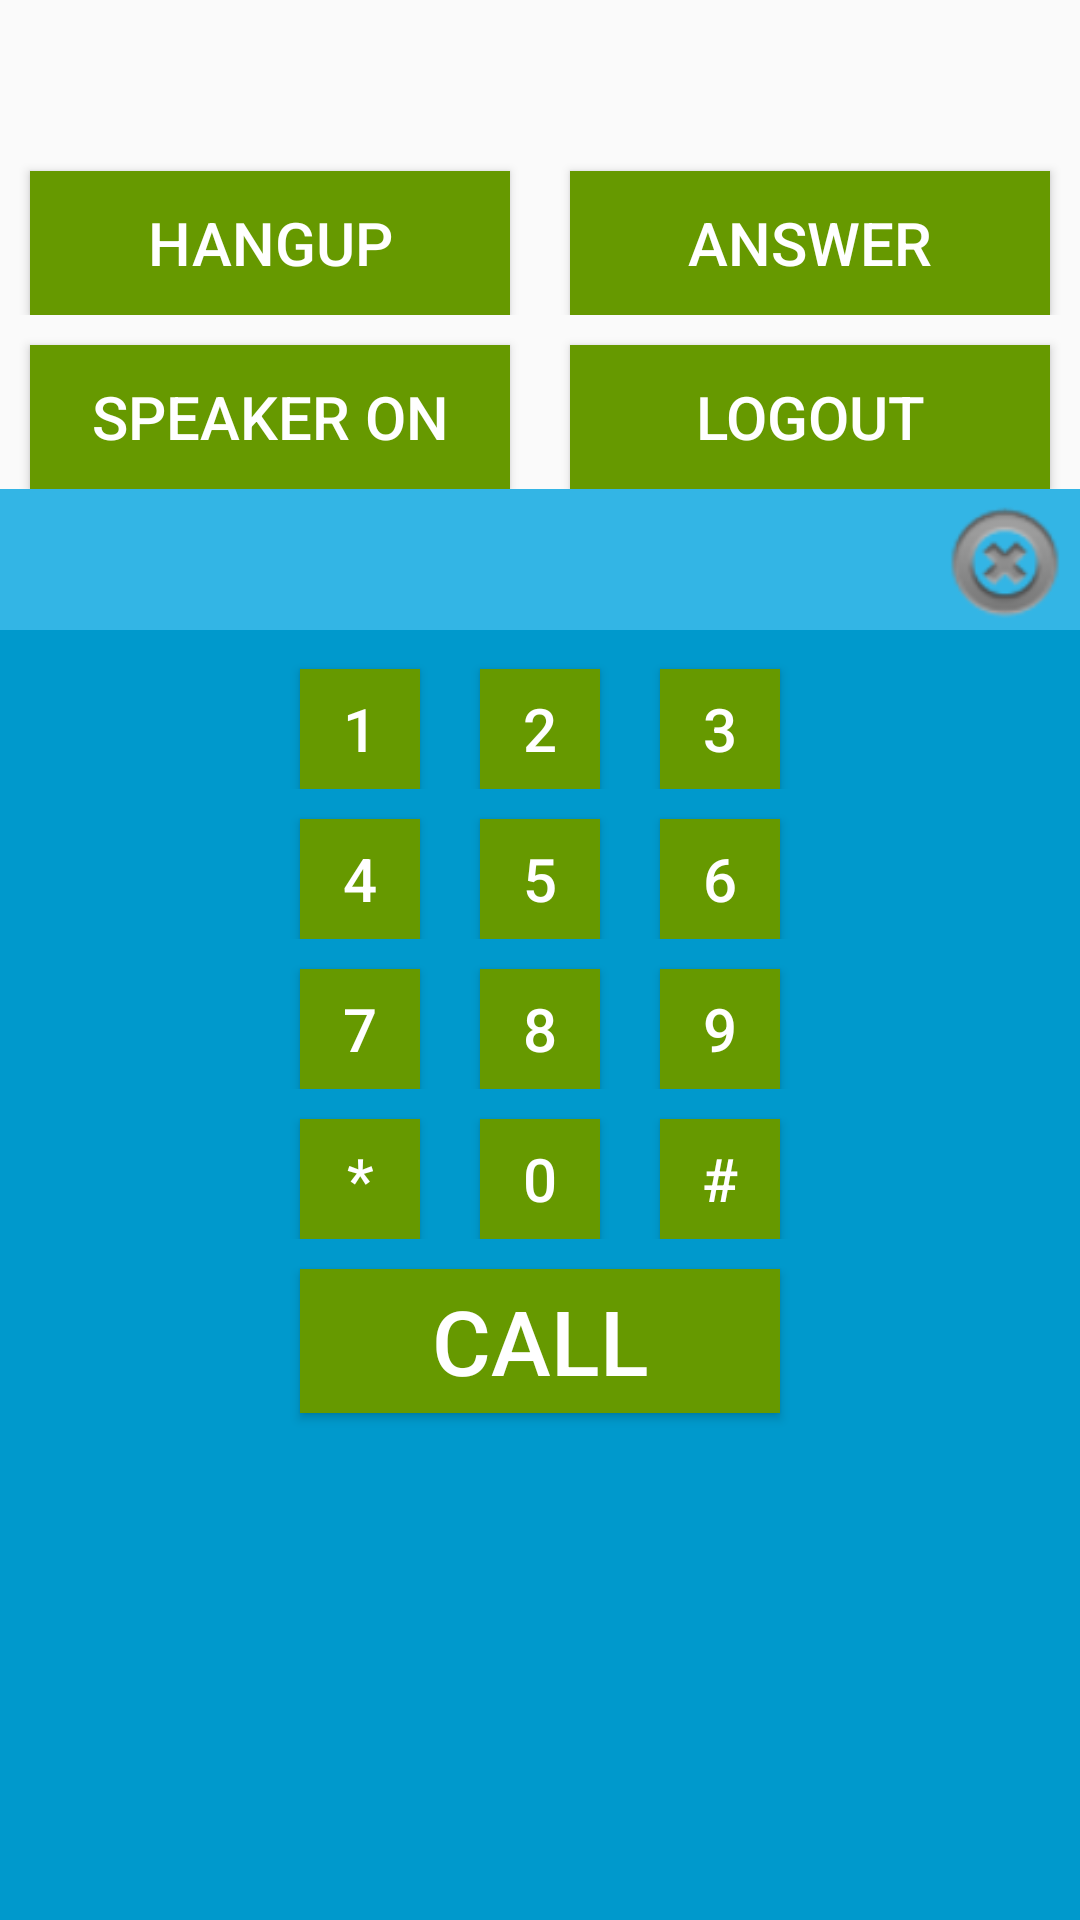

Screen size 1080 × 1920. Icon name, then its center in pixels as [x,y]:
notification clear all: [1005,564]
